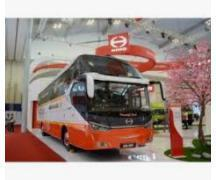bus: (35, 52, 154, 152)
